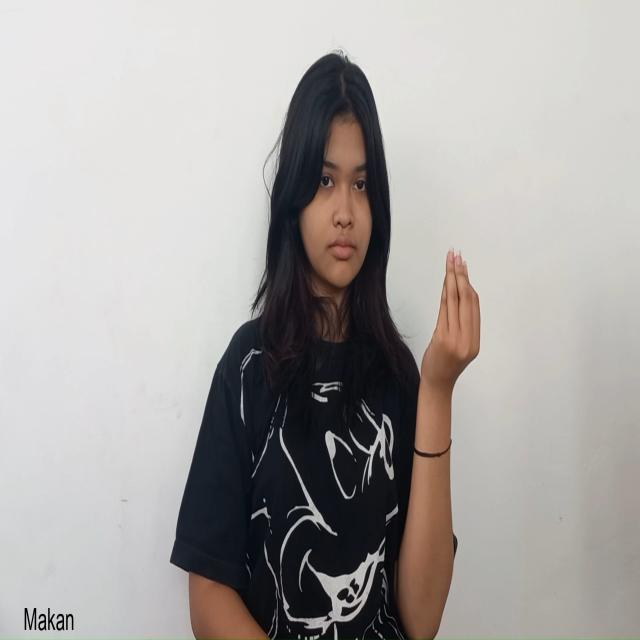Makan -BISINDO-: (413, 246, 481, 419)
